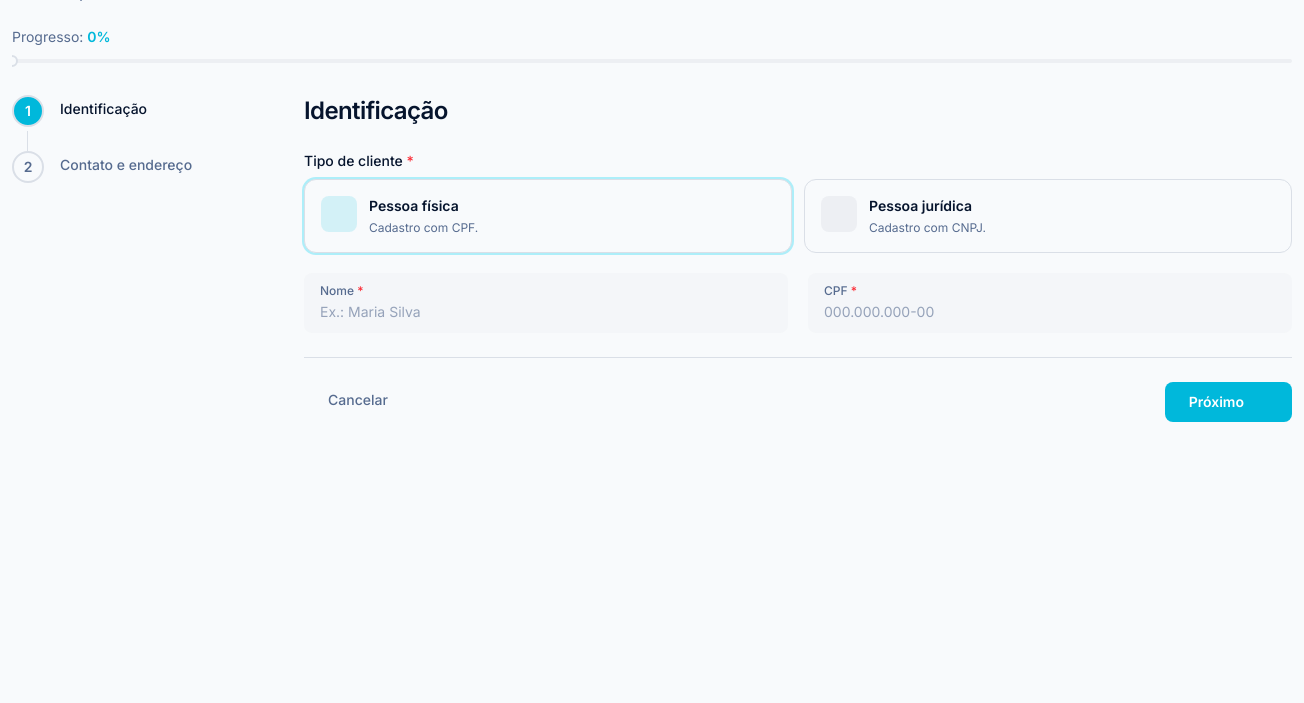
Test: CreateCustomerForm — regressão do passo 1 com erros prematuros › voltar para o passo 0 e avançar de novo mantém o passo 1 neutro
Type "Maria Silva" into the field labelled "Nome *".
click(546, 312); type("Maria Silva")  # box [320,302,772,322]
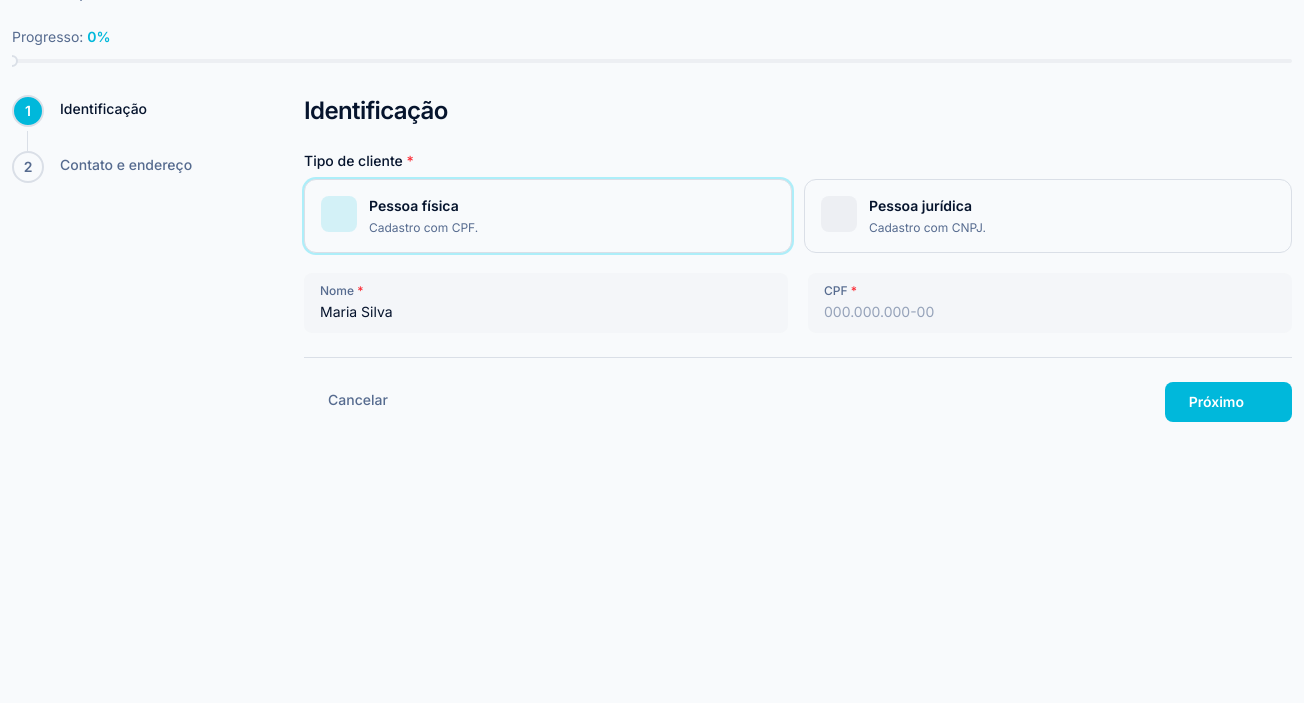
Type "529.982.247-25" into the field labelled "CPF *".
click(1050, 312); type("529.982.247-25")  # box [824,302,1276,322]
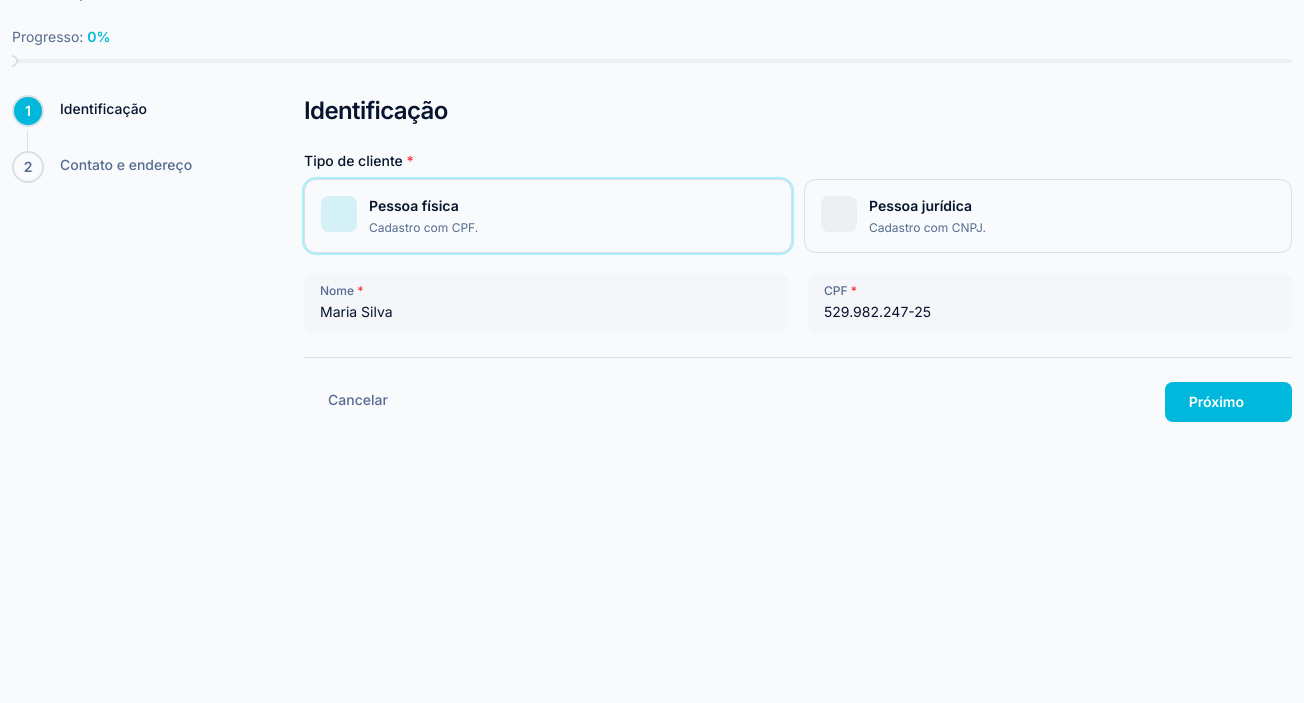
Click the button "Próximo".
click(1228, 402)  # box [1165,382,1292,422]
(page scrolled)
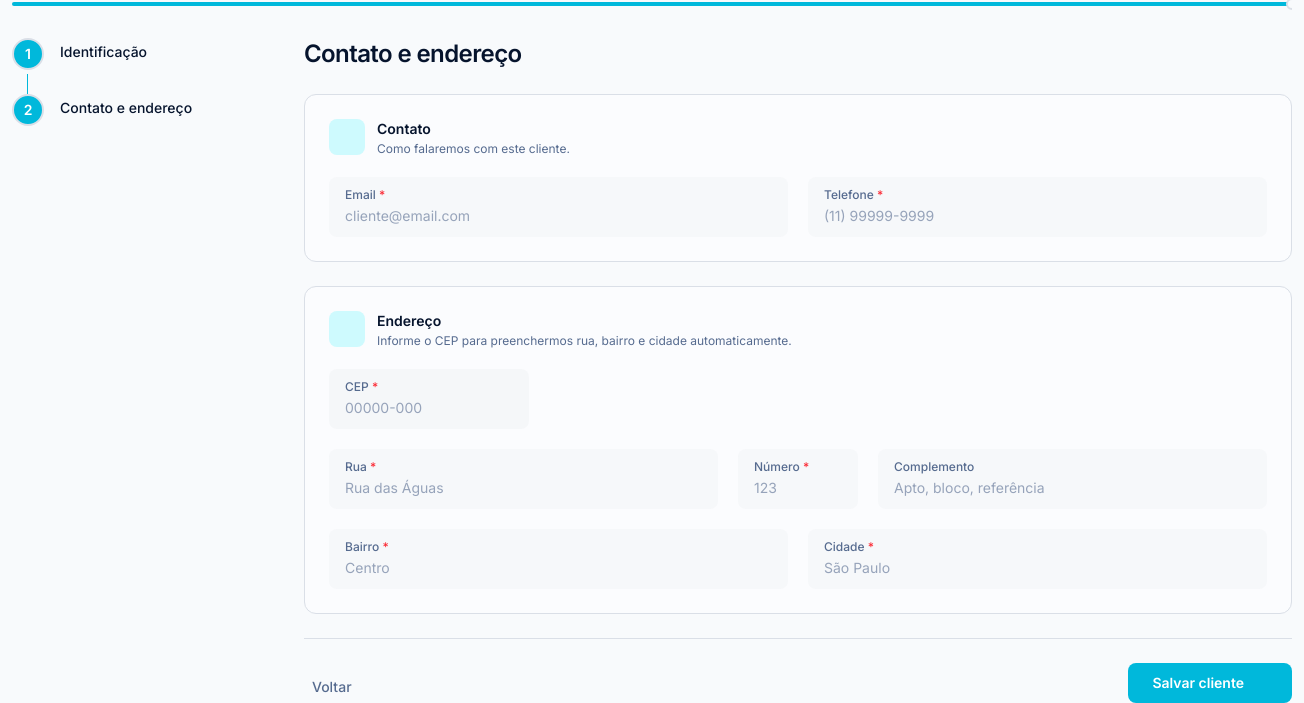
Expected: the field labelled "Email *" is shown, [345,206,772,226]
Click the button "Voltar".
click(328, 687)  # box [304,677,352,697]
(page scrolled)
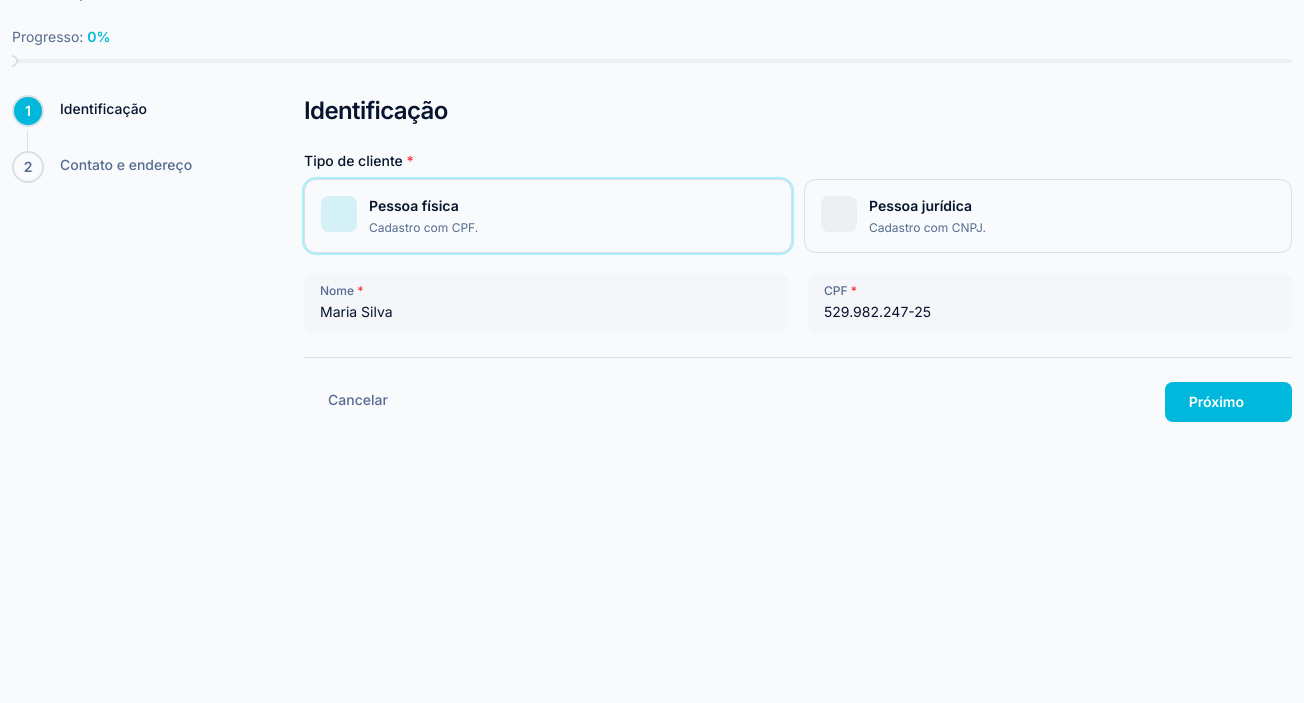
Expected: the label labelled "Email" is gone
Click the button "Próximo".
click(1228, 402)  # box [1165,382,1292,422]
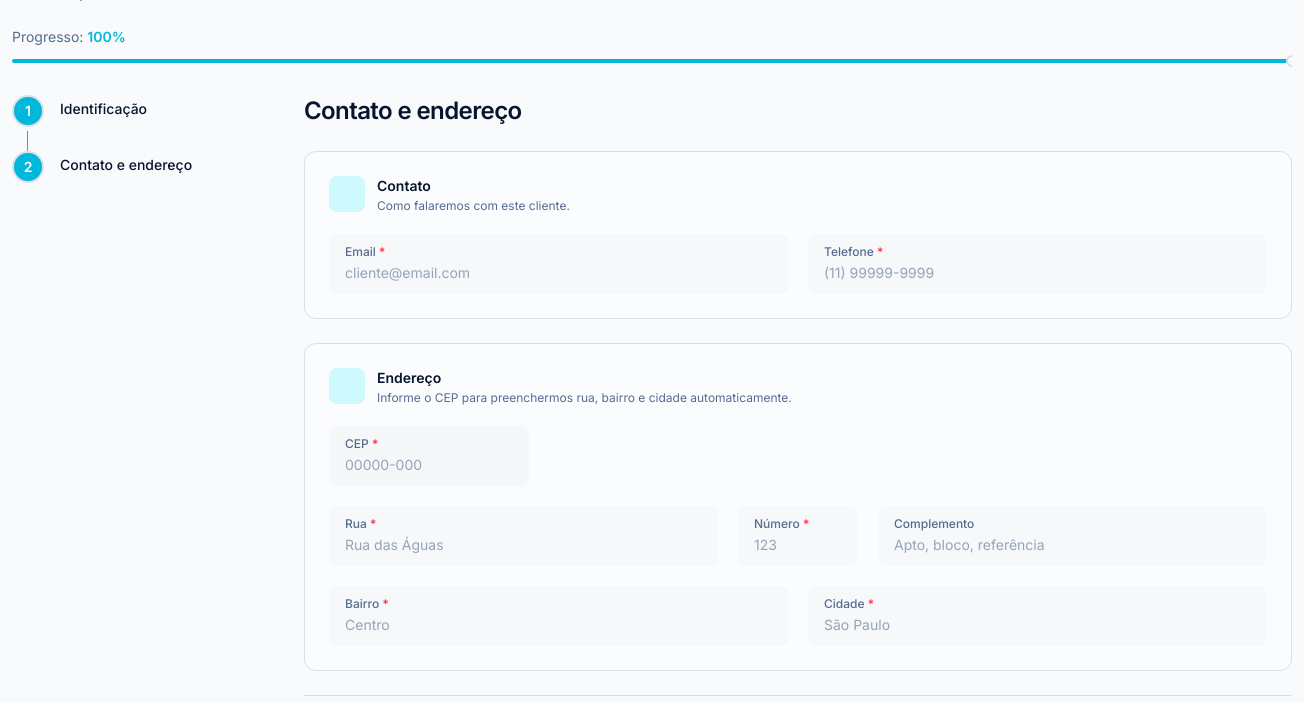
Expected: the field labelled "Email *" is shown, [345,263,772,283]
